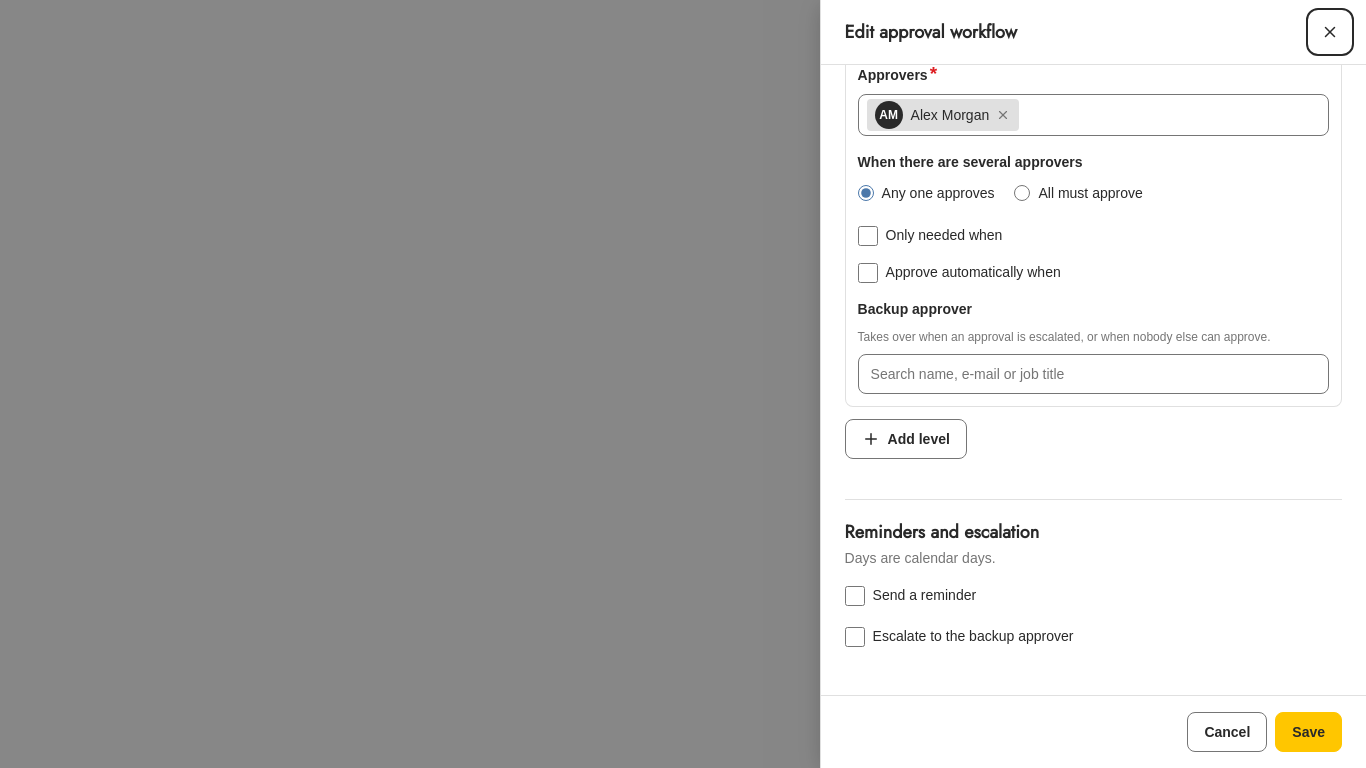
Test case: WorkflowFormPanel (feature 008, US4) › turns reminders on for a workflow without them and sends only that (017 FR-007)
The width and height of the screenshot is (1366, 768).
(page scrolled)
Expected: the field labelled "Remind after" is not shown
Click the checkbox labelled "Send a reminder" at (855, 596), box x1=845 y1=586 x2=865 y2=606
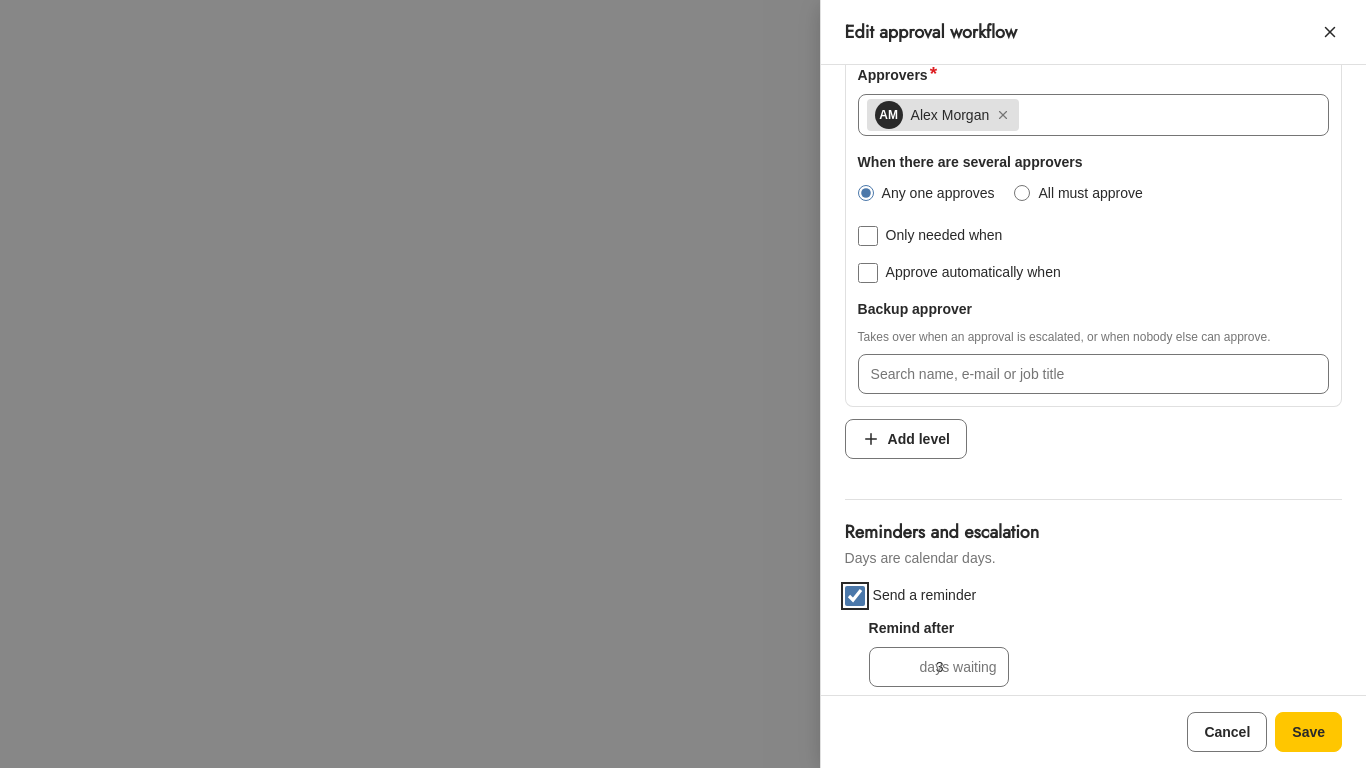
Replace the text in the field labelled "Remind after" with "2" at (939, 667), box x1=869 y1=647 x2=1009 y2=687
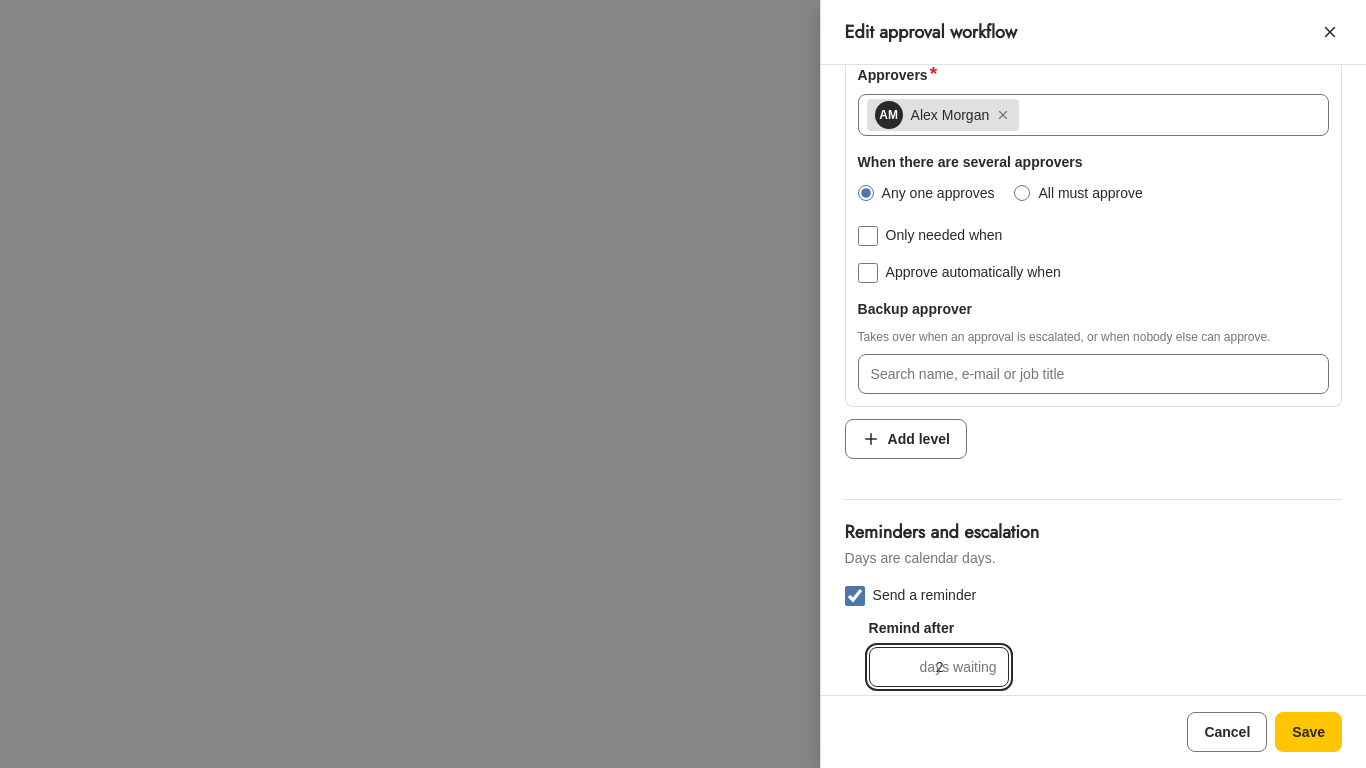
Click the button "Save" at (1309, 732), box x1=1275 y1=712 x2=1342 y2=752
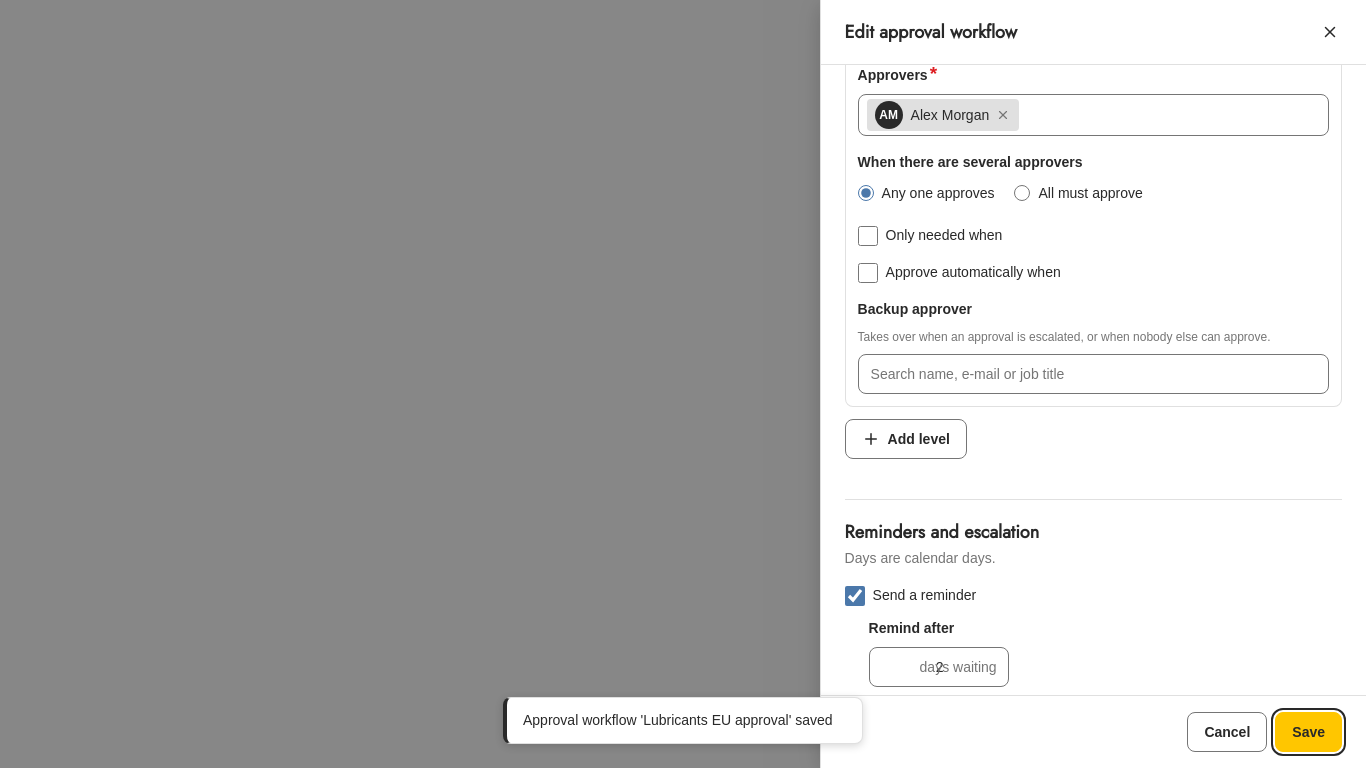
Expected: the text "Approval workflow 'Lubricants EU approval' saved" is shown, x1=523 y1=710 x2=850 y2=731
